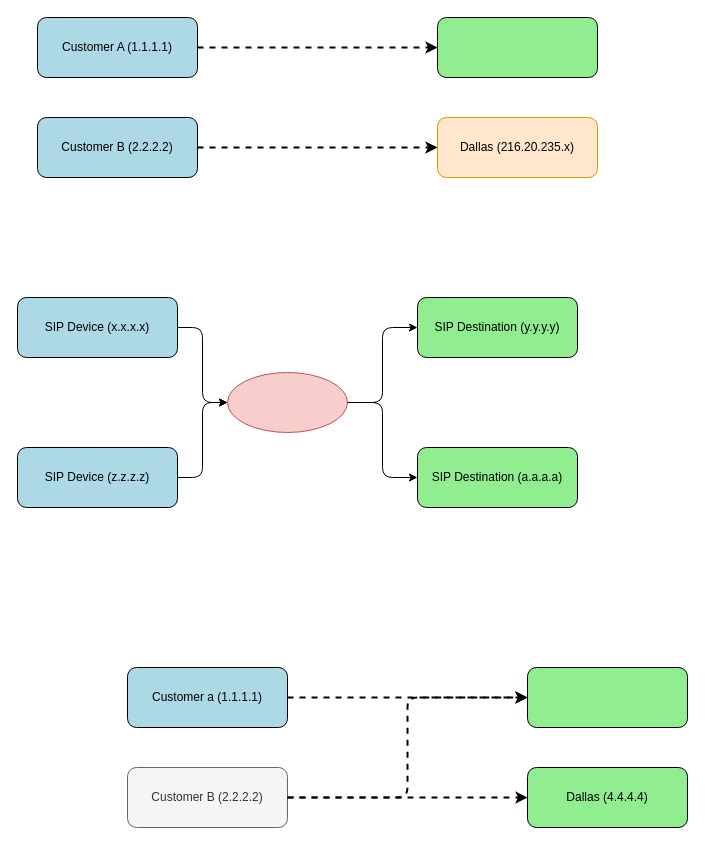
Some shapes in this 705 by 845 pixel diagram are drawn without their labels. The centre of each missing label's shape, as x and y in pixels:
Internet: the point at 287,402
LA (216.20.237.x): the point at 517,47
LA (3.3.3.3): the point at 607,697
